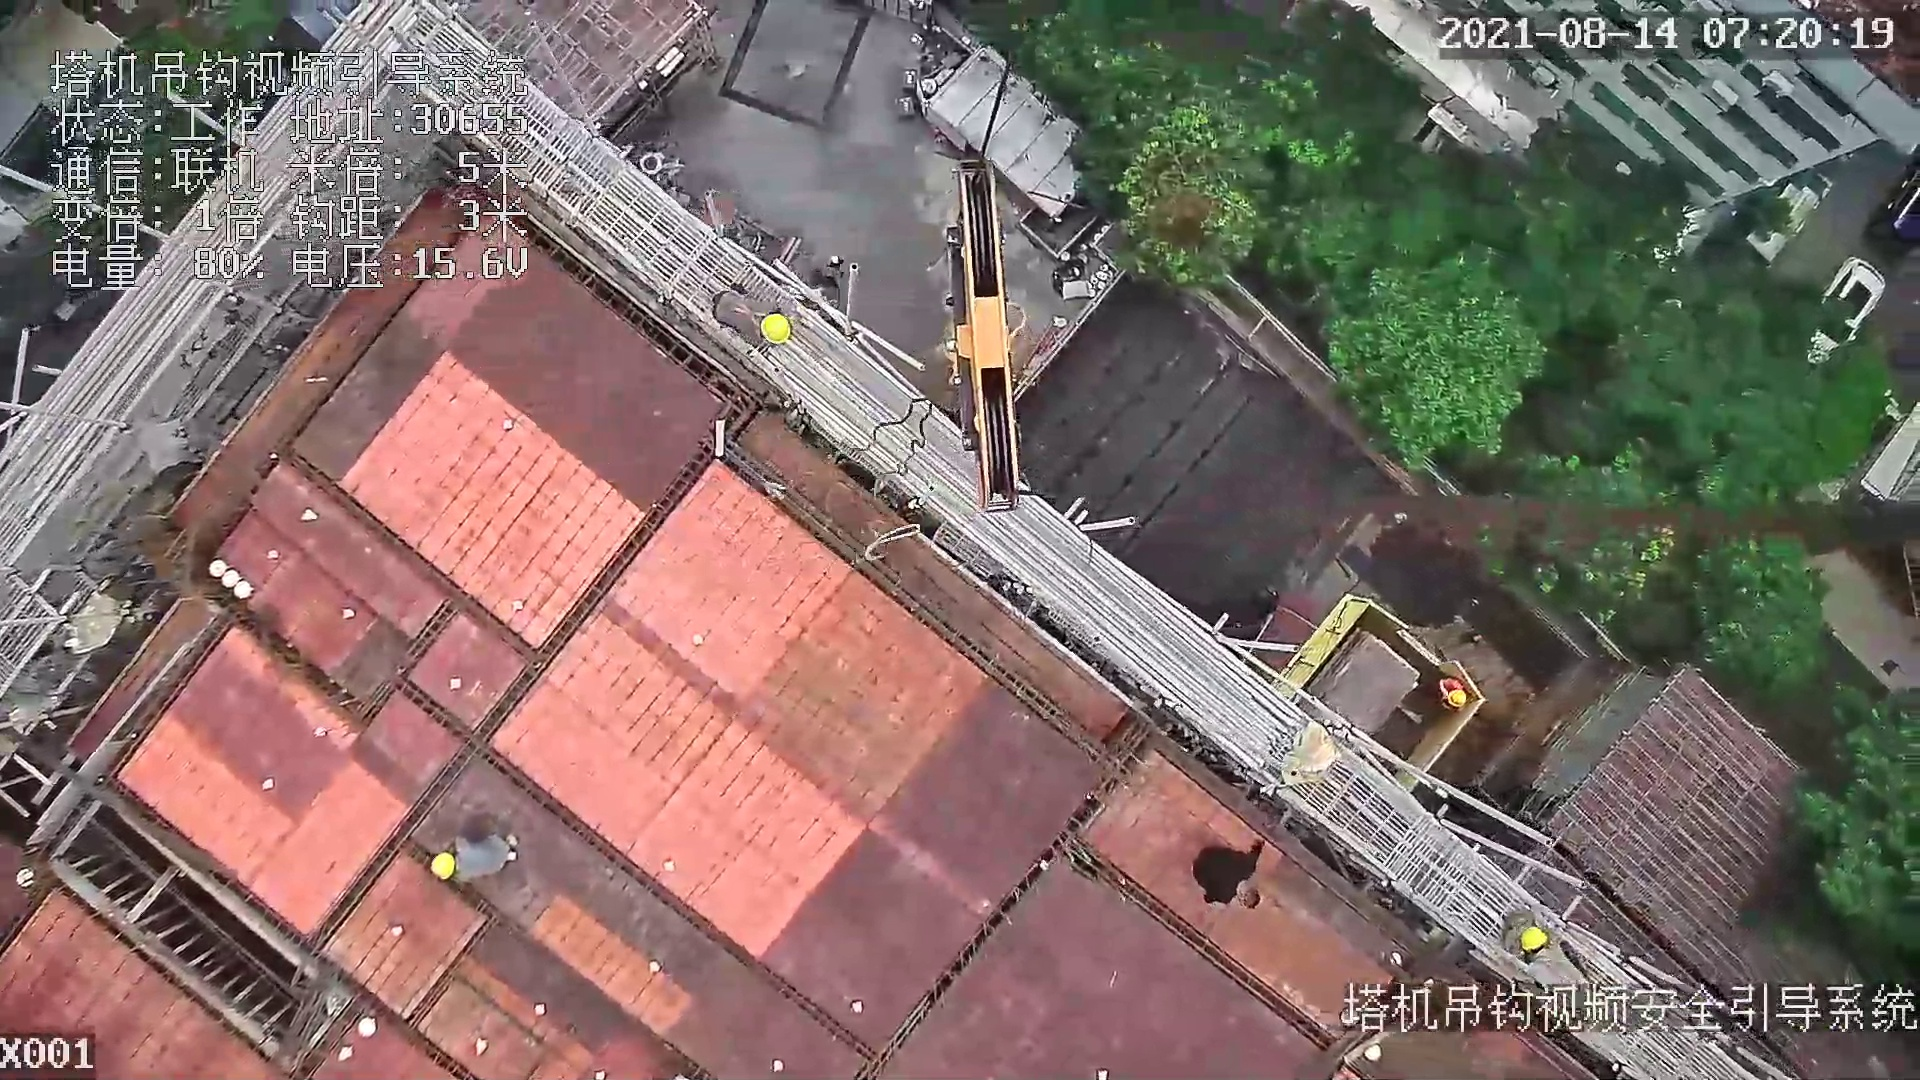helmet: (759, 308, 791, 348), (1519, 924, 1551, 952), (429, 848, 454, 882), (1447, 687, 1463, 705)
person: (699, 279, 800, 357), (1186, 831, 1273, 921), (423, 827, 523, 883), (1419, 671, 1467, 717)
